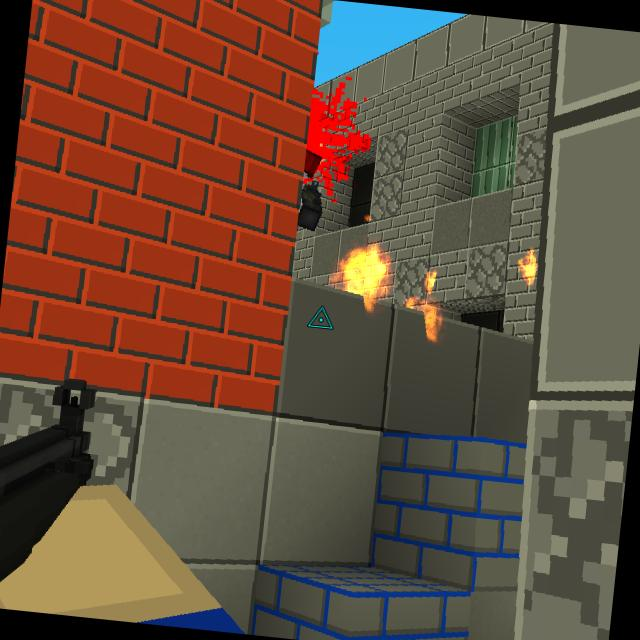enemy: (294, 150, 328, 234)
